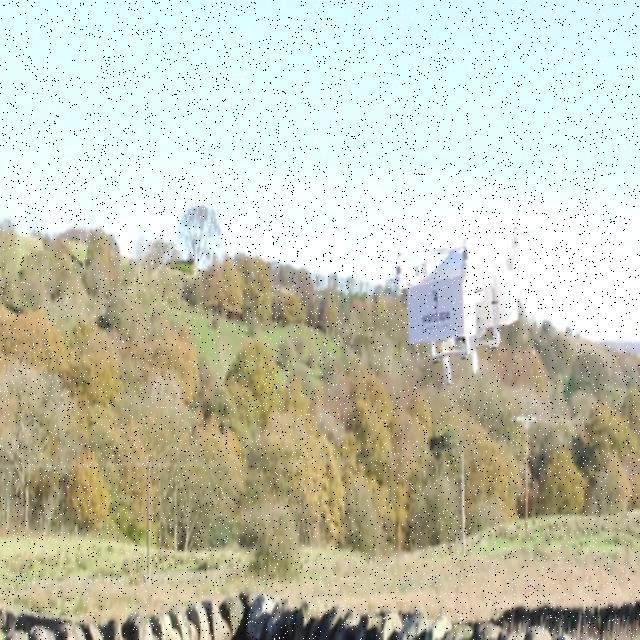UAV: (394, 227, 534, 385)
